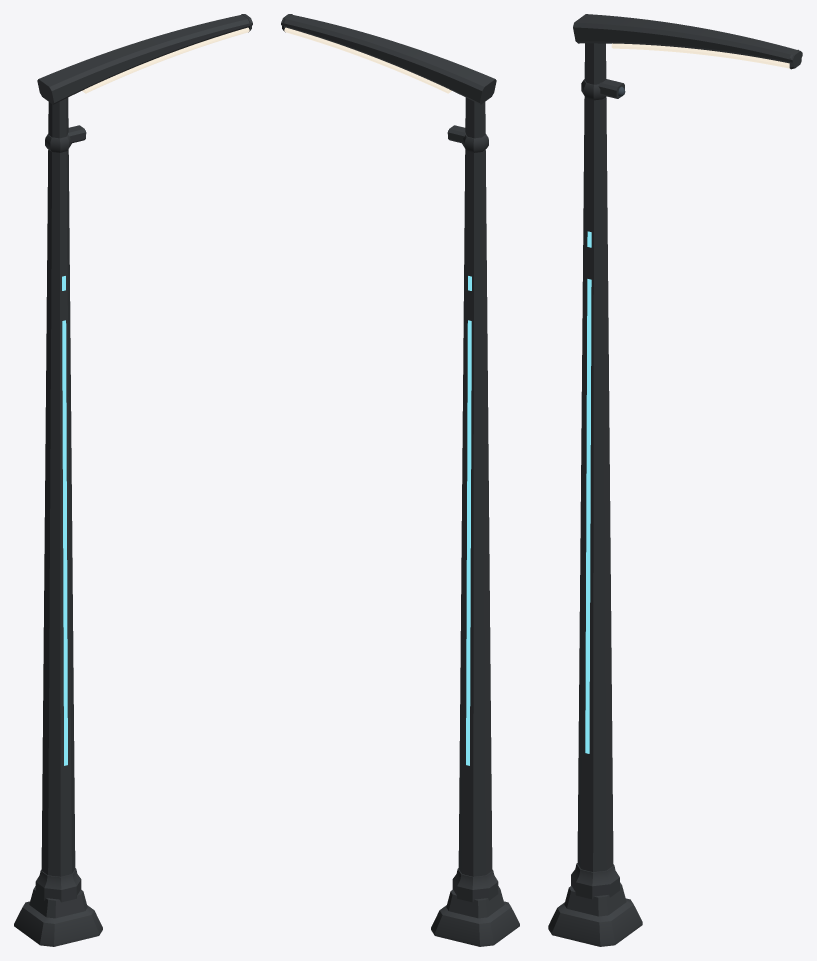
File: lamp163.glb
3 renders of one model, left to right at view 1: azimuth 30°, elevation 25°; view 2: azimuth 150°, elevation 25°; view 3: azimuth 330°, elevation 25°, orthographic. The views are drawn at different scales.
Parts seen in each view (by area): view 1: l163-metal, l163-accent, l163-light; view 2: l163-metal, l163-accent, l163-light; view 3: l163-metal, l163-accent, l163-light.
Part boxes in pixels (x1,y1,x2,y2): l163-metal: (14,14,252,946); l163-accent: (62,276,67,765); l163-light: (82,27,249,93); l163-metal: (281,14,519,946); l163-accent: (466,276,471,765); l163-light: (284,27,451,93); l163-metal: (548,14,802,946); l163-accent: (585,231,591,753); l163-light: (611,43,789,68).
Size of the model in its own units: 1.31 by 4.89 by 0.37.
